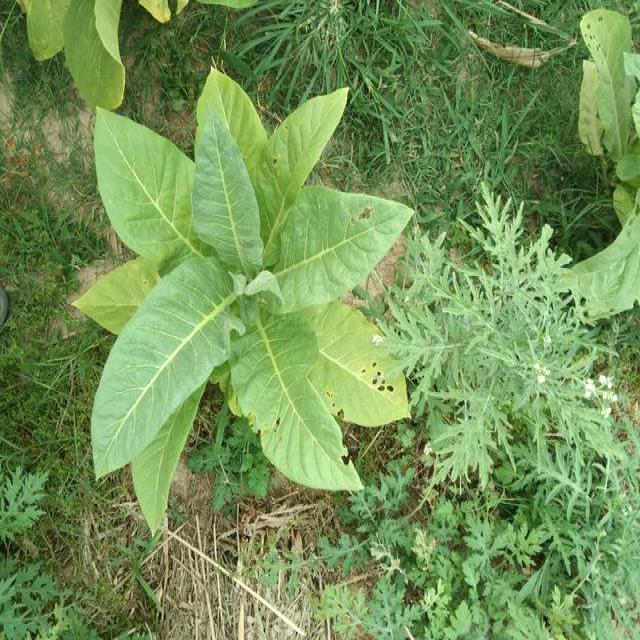crop: (65, 68, 407, 528)
